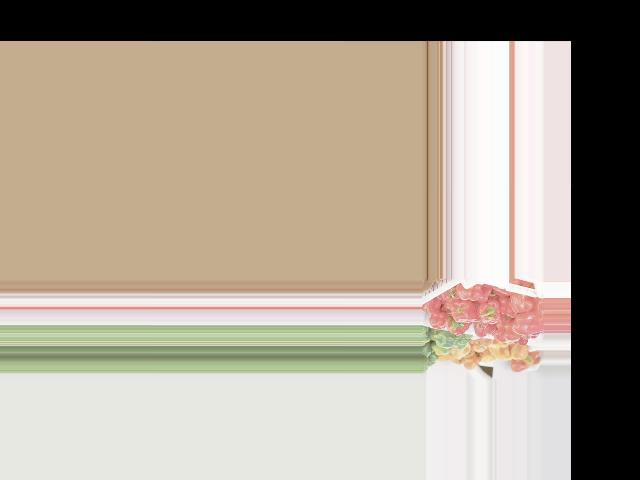bell_pepper: (455, 281, 491, 301)
